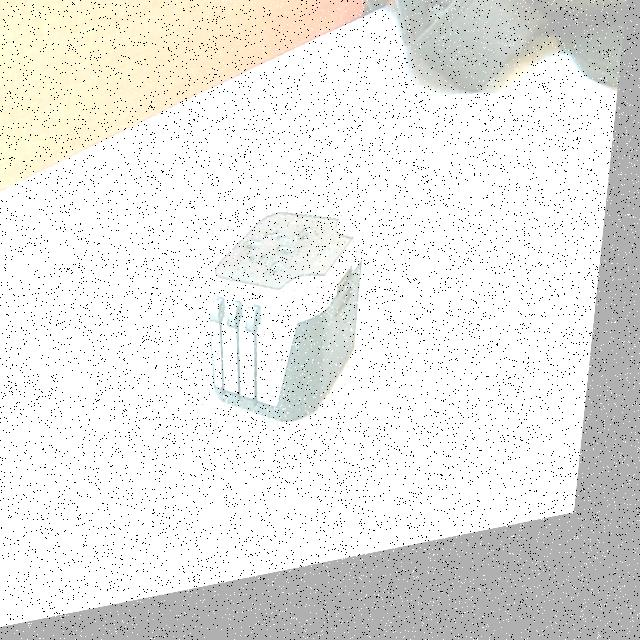adapter: (200, 206, 378, 452)
